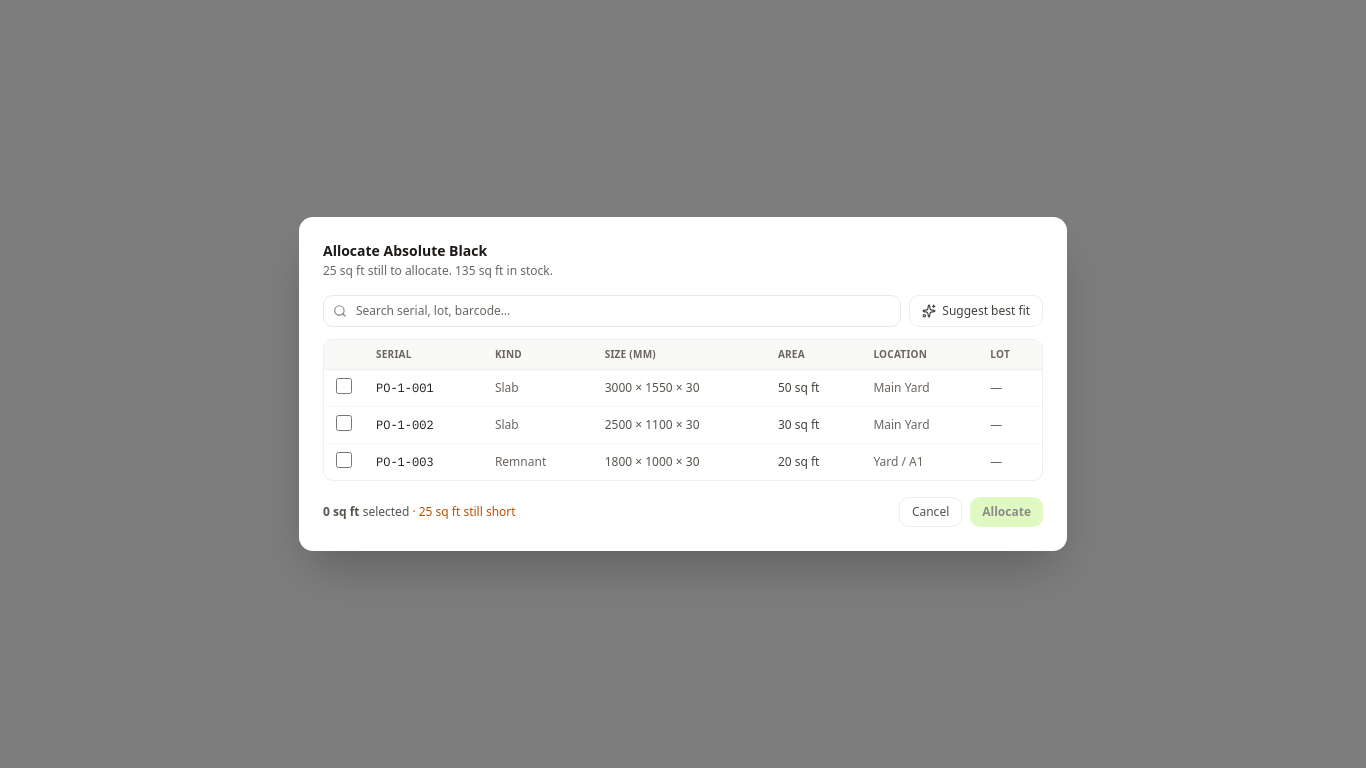
Scenario: AllocateSlabsDialog › selects the fewest slabs that cover the gap when asked for the best fit
Expected: the text "PO-1-001" is shown, [364,370,483,407]
Click the button "Suggest best fit" at [976, 311], box [909,295,1043,327]
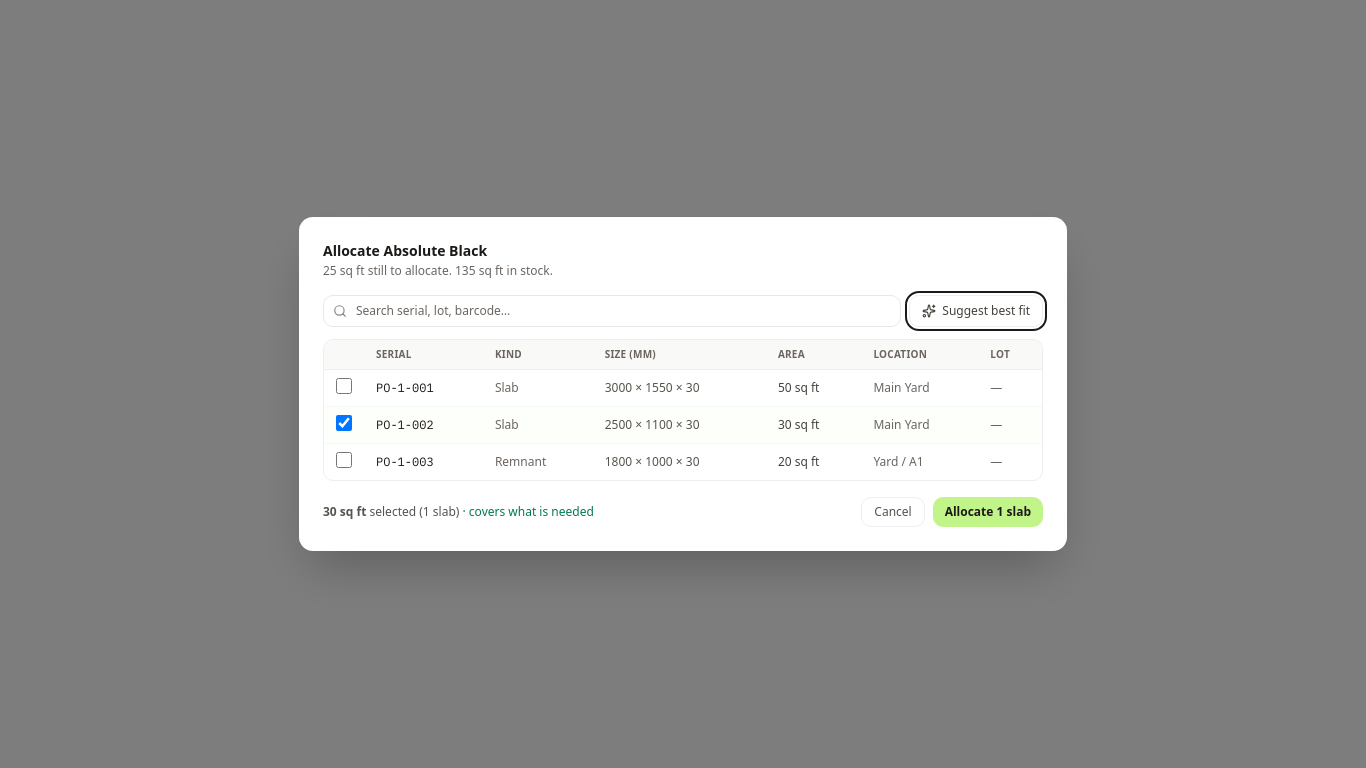
Expected: the checkbox named "Select PO-1-001" is not checked, [336,378,352,394]
Expected: the checkbox named "Select PO-1-002" is checked, [336,415,352,431]
